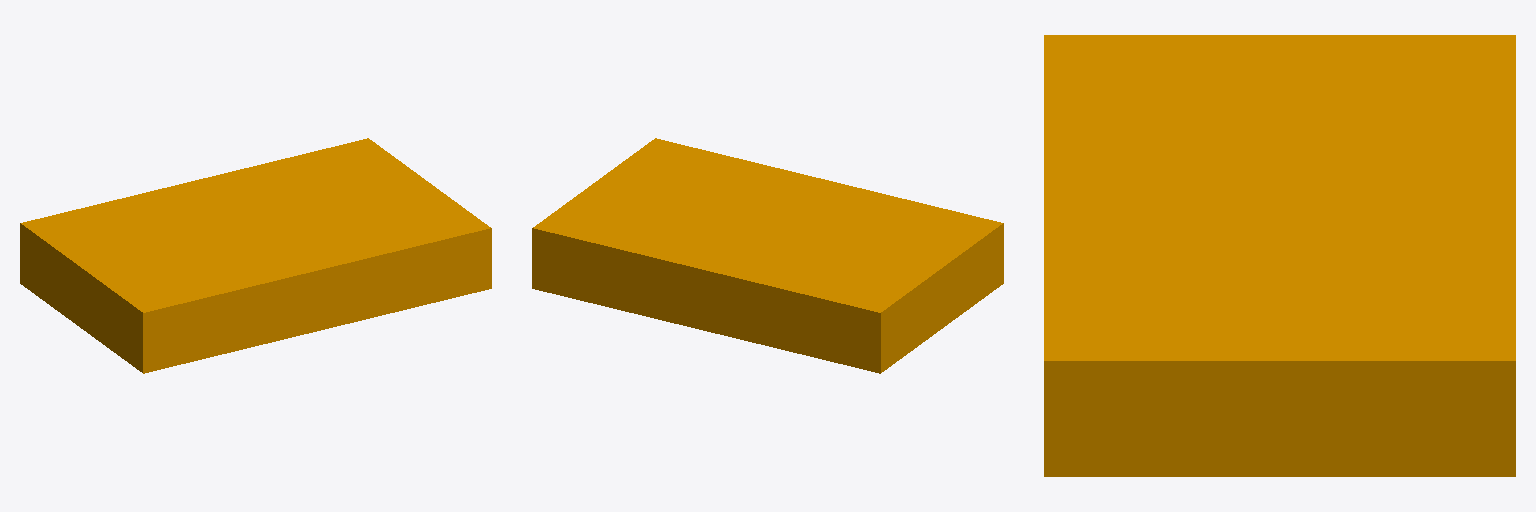
The robot description file, URDF, robot "parttoolgen_tabletop_hdu_board_018x011x030":
<?xml version="1.0"?>
<robot name="parttoolgen_tabletop_hdu_board_018x011x030">
  <link name="tabletop_hdu_board">
    <visual name="white_hdu_printed_board">
      <origin xyz="0 0 0" rpy="0 0 0"/>
      <geometry>
        <mesh filename="tabletop_hdu_board_018x011x030.obj" scale="1 1 1"/>
      </geometry>
    </visual>
    <collision name="physical_whiteboard_block">
      <origin xyz="0 0 0" rpy="0 0 0"/>
      <geometry>
        <box size="0.180 0.110 0.030"/>
      </geometry>
    </collision>
    <inertial>
      <origin xyz="0 0 0"/>
      <mass value="0.25"/>
      <inertia ixx="0.000315" ixy="0" ixz="0" iyy="0.000704" iyz="0" izz="0.000844"/>
    </inertial>
  </link>
</robot>

--- Facts derived from the render (not from the file) ---
3 views of the same robot in one strip: view 1: azimuth 30°, elevation 25°; view 2: azimuth 150°, elevation 25°; view 3: azimuth 270°, elevation 25° (orthographic).
Model parttoolgen_tabletop_hdu_board_018x011x030 with 1 links and 0 joints (none), rooted at tabletop_hdu_board, posed every joint at zero.
Visible links, largest first — view 1: tabletop_hdu_board; view 2: tabletop_hdu_board; view 3: tabletop_hdu_board.
Boxes of the visible links, bbox=[...] form: tabletop_hdu_board: bbox=[20, 138, 491, 373]; tabletop_hdu_board: bbox=[532, 138, 1003, 373]; tabletop_hdu_board: bbox=[1044, 35, 1515, 476].
Bounding box of the posed robot: 0.18 × 0.11 × 0.0301 m (x, y, z).
1 mesh visuals loaded from 1 distinct referenced files (1 OBJ).
